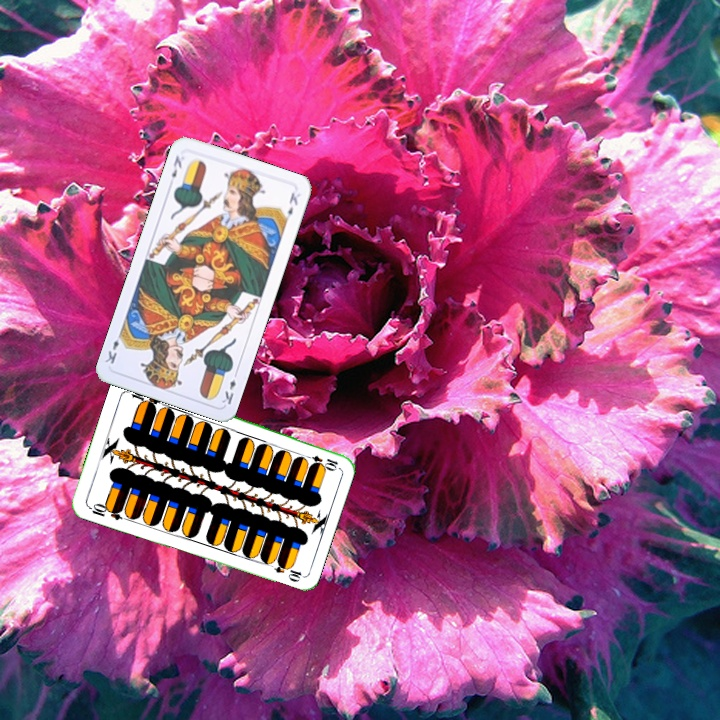E10: (84, 499, 125, 523), (300, 450, 340, 472)
EK: (218, 367, 241, 407), (167, 151, 184, 180)
